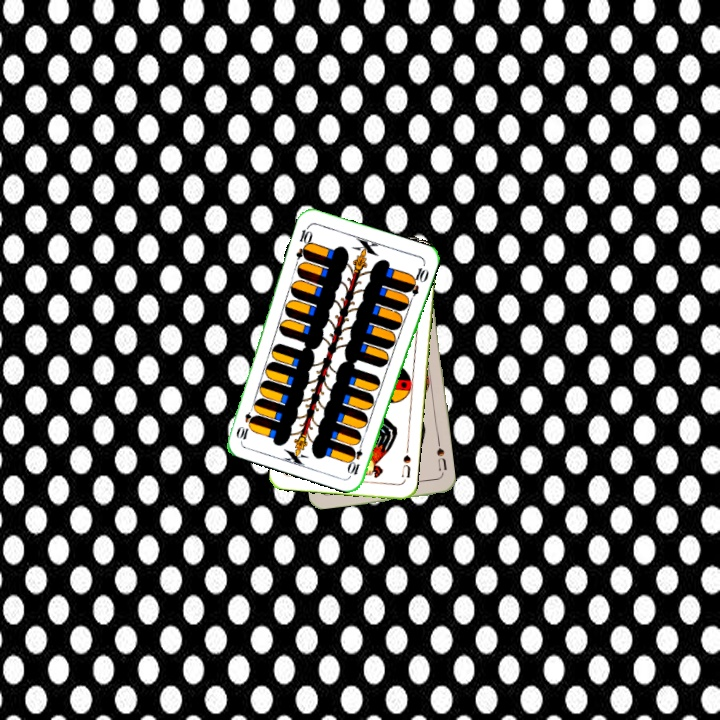E10: (291, 222, 315, 262), (345, 437, 366, 477)
SU: (397, 443, 413, 484), (433, 444, 449, 473)
